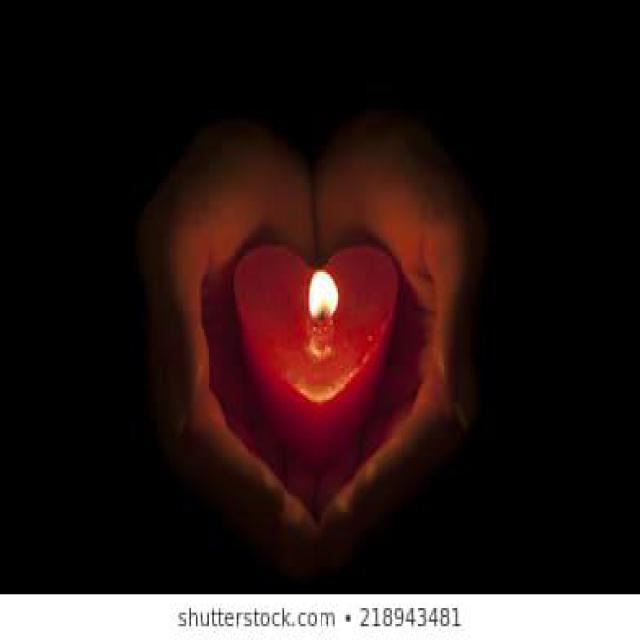Fire: (305, 270, 340, 330)
